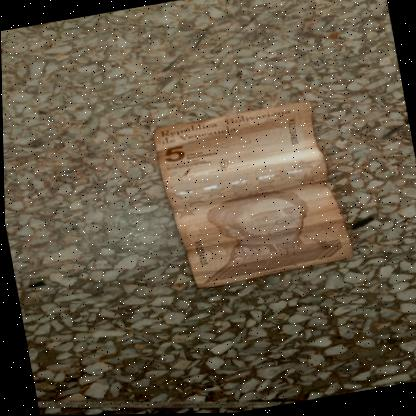five-front-vef: (149, 95, 353, 293)
